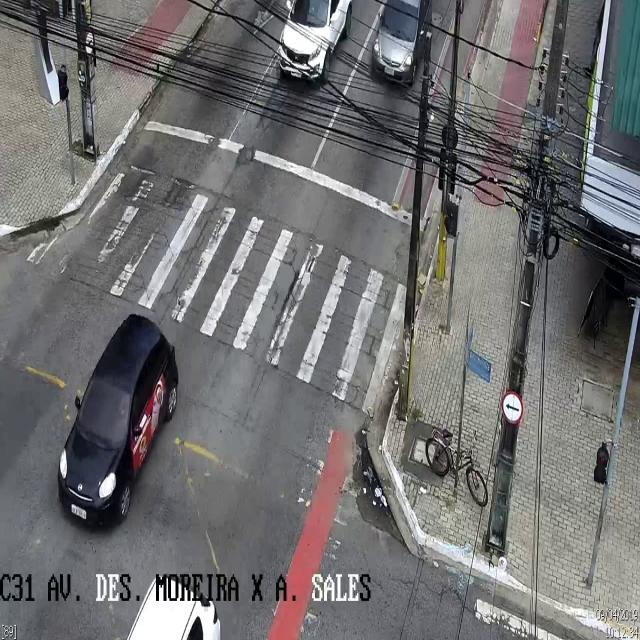Car: (58, 314, 178, 530), (117, 580, 242, 640), (276, 1, 352, 75), (370, 1, 432, 83)
